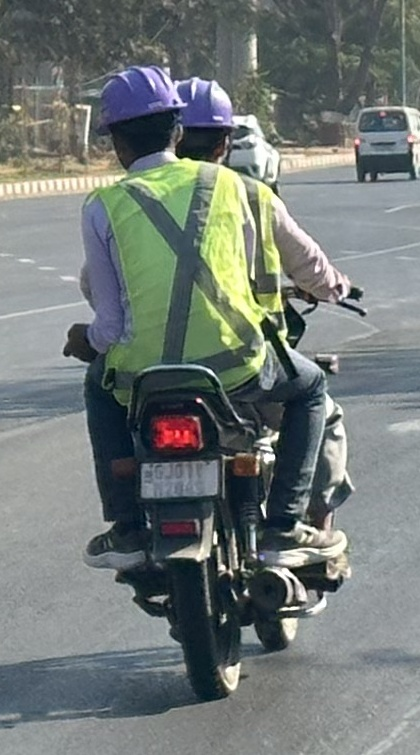Helmet: (89, 58, 190, 176), (161, 70, 242, 169)
NoHelmet: (55, 55, 375, 711)
